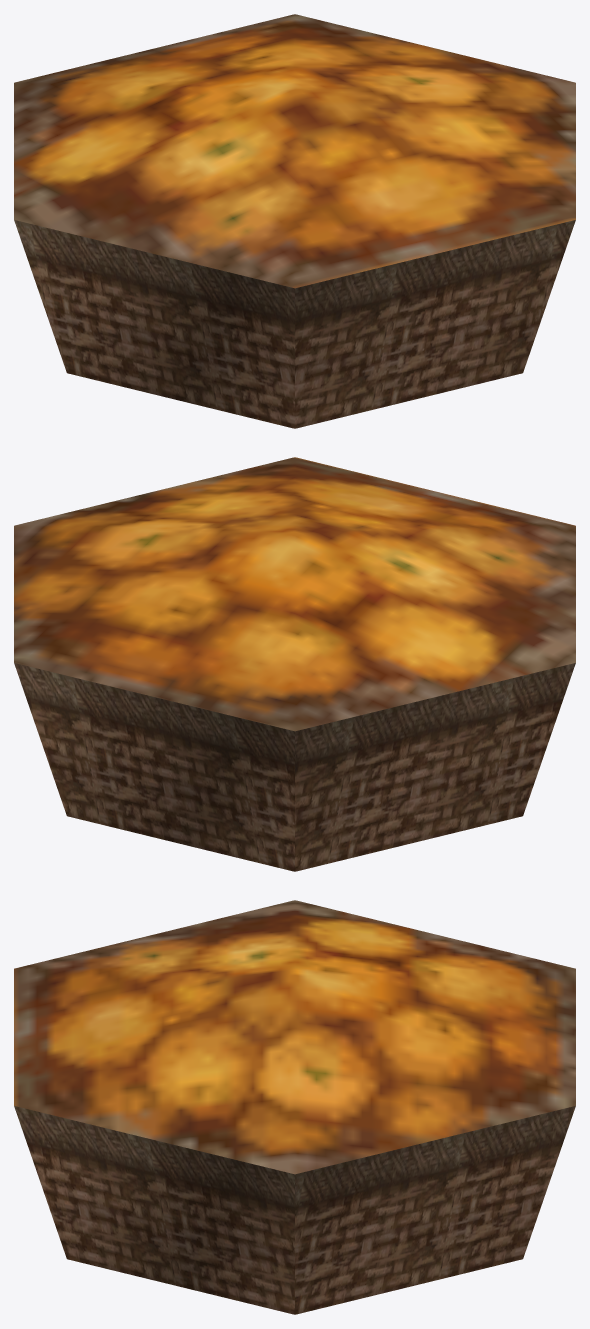
Rendered from euro_fushop06.glb.
3 views of the same model, one above another, from view 1: azimuth 30°, elevation 25°; view 2: azimuth 150°, elevation 25°; view 3: azimuth 270°, elevation 25° (orthographic).
Parts seen in each view (by area): view 1: euro_fushop06; view 2: euro_fushop06; view 3: euro_fushop06.
Part boxes in pixels (x1,y1,x2,y2): euro_fushop06: (14, 14, 575, 428); euro_fushop06: (14, 457, 575, 871); euro_fushop06: (14, 900, 575, 1314).
Bounding box in the file's own units: 1.71 × 0.6615 × 1.48.
Materials: 2 (2 with a texture image).
